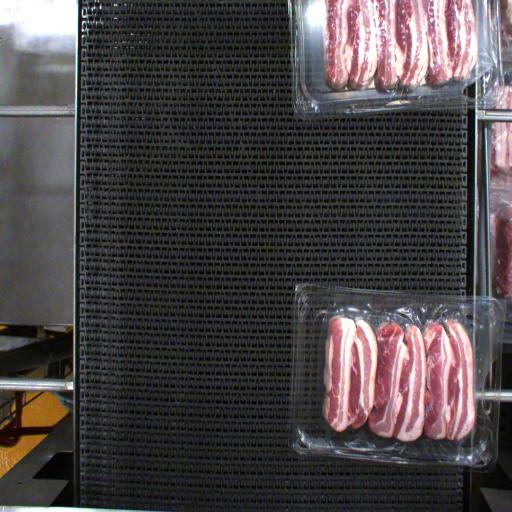unsealed: (314, 298, 494, 456)
